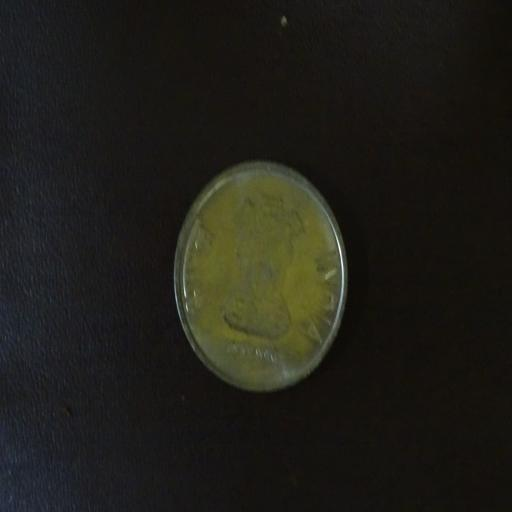rupee1: (164, 155, 353, 400)
